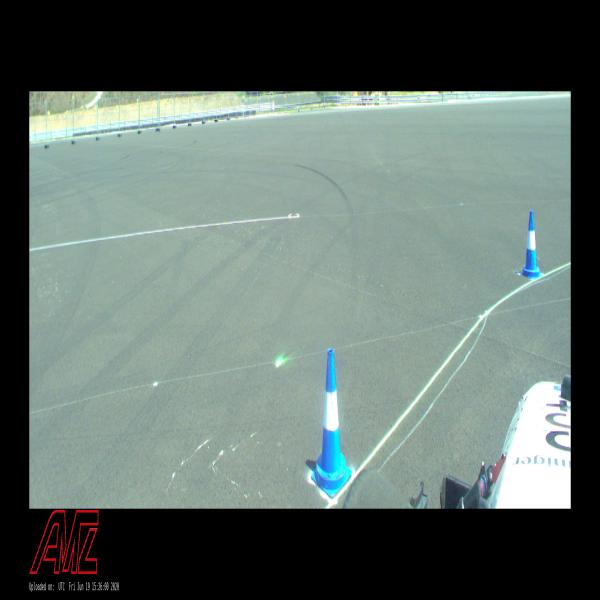blue_cone: (311, 349, 351, 498), (521, 210, 542, 278)
